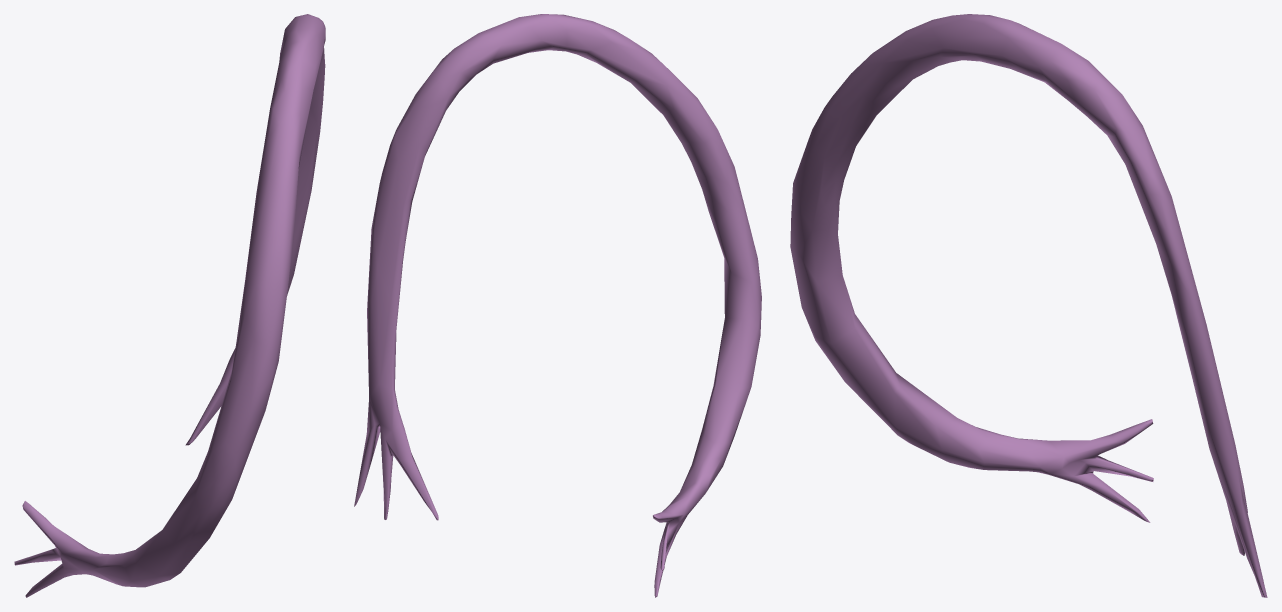
3 renders of one model, left to right at view 1: azimuth 30°, elevation 25°; view 2: azimuth 150°, elevation 25°; view 3: azimuth 270°, elevation 25°, orthographic. The views are drawn at different scales.
Parts seen in each view (by area): view 1: 左侧终纹; view 2: 左侧终纹; view 3: 左侧终纹.
Part boxes in pixels (bbox=[...]): 左侧终纹: bbox=[14, 14, 325, 597]; 左侧终纹: bbox=[354, 14, 761, 597]; 左侧终纹: bbox=[790, 14, 1267, 597].
Size of the model in its own units: 0.0367 by 0.0624 by 0.0441.
